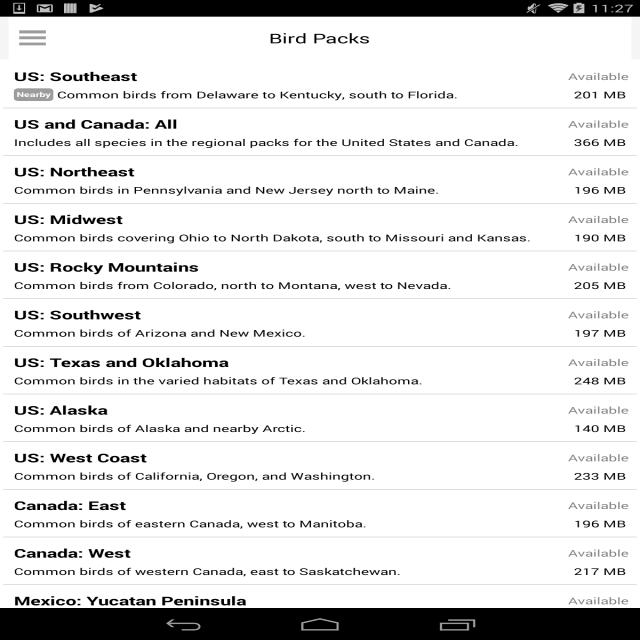ImageView: (19, 17, 46, 59)
TextView: (11, 161, 568, 182), (11, 304, 568, 325), (11, 447, 568, 468), (11, 590, 568, 611), (11, 66, 568, 86), (11, 114, 568, 134), (11, 209, 568, 229), (11, 257, 568, 277), (11, 352, 568, 372), (11, 400, 568, 420), (11, 495, 568, 515), (11, 543, 568, 563), (11, 86, 568, 103), (11, 134, 568, 151), (11, 229, 568, 246), (11, 277, 568, 294), (11, 372, 568, 389), (11, 420, 568, 437), (11, 515, 568, 532), (11, 563, 568, 580), (11, 182, 568, 198), (11, 325, 568, 341), (11, 468, 568, 484), (268, 29, 370, 47), (568, 66, 629, 83), (568, 161, 629, 178), (568, 209, 629, 226), (568, 304, 629, 321), (568, 352, 629, 369), (568, 447, 629, 464), (568, 495, 629, 512), (568, 590, 629, 607), (571, 86, 629, 103), (571, 134, 629, 151), (571, 229, 629, 246), (571, 277, 629, 294), (571, 372, 629, 389), (571, 420, 629, 437), (571, 515, 629, 532), (571, 563, 629, 580), (568, 114, 629, 130), (568, 257, 629, 273), (568, 400, 629, 416), (568, 543, 629, 559), (571, 182, 629, 198), (571, 325, 629, 341), (571, 468, 629, 484)
